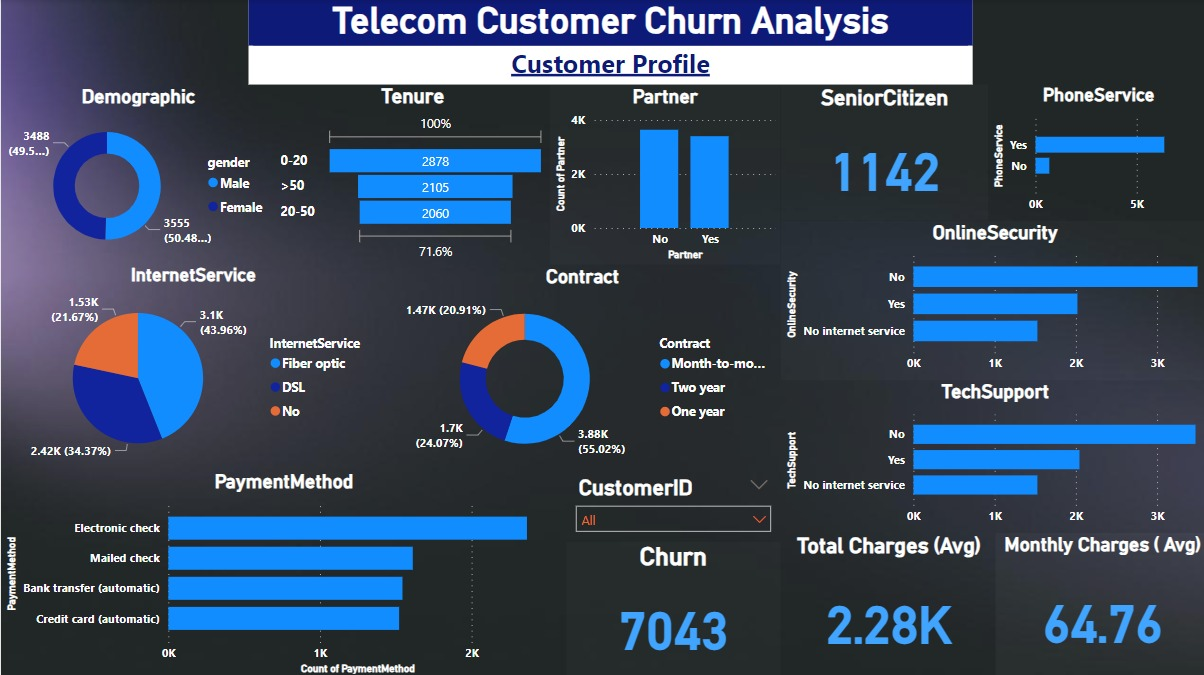

The page's visual inventory and layout, read from the dashboard file:
{"tool":"powerbi","page":{"name":"Customer","canvas":[1280,720],"ordinal":0},"visuals":[{"type":"donutChart","title":"Demographic","fields":{"Category":["Telco-Customer-Churn.gender"],"Y":["CountNonNull(Telco-Customer-Churn.gender)"]},"box":[0,90.6,290.9,190.7],"z":0},{"type":"funnel","title":"Tenure","fields":{"Category":["Telco-Customer-Churn.Tenure_Bins"],"Y":["CountNonNull(Telco-Customer-Churn.Tenure_Bins)"]},"box":[290.9,90.6,290.9,190.7],"z":1000},{"type":"clusteredColumnChart","title":"Partner","fields":{"Category":["Telco-Customer-Churn.Partner"],"Y":["CountNonNull(Telco-Customer-Churn.Partner)"]},"box":[581.8,90.6,244.3,190.7],"z":2000},{"type":"card","title":"SeniorCitizen","fields":{"Values":["Sum(Telco-Customer-Churn.SeniorCitizen)"]},"box":[826.1,90.6,219.6,144.1],"z":3000},{"type":"clusteredBarChart","title":"PhoneService","fields":{"Category":["Telco-Customer-Churn.PhoneService"],"Y":["CountNonNull(Telco-Customer-Churn.PhoneService)"]},"box":[1045.6,90.6,234.6,144.1],"z":4000},{"type":"clusteredBarChart","title":"OnlineSecurity","fields":{"Category":["Telco-Customer-Churn.OnlineSecurity"],"Y":["CountNonNull(Telco-Customer-Churn.OnlineSecurity)"]},"box":[826.1,234.6,454.2,168.8],"z":5000},{"type":"clusteredBarChart","title":"TechSupport","fields":{"Category":["Telco-Customer-Churn.TechSupport"],"Y":["CountNonNull(Telco-Customer-Churn.TechSupport)"]},"box":[826.1,403.4,454.2,161.9],"z":6000},{"type":"pieChart","title":"InternetService","fields":{"Category":["Telco-Customer-Churn.InternetService"],"Y":["CountNonNull(Telco-Customer-Churn.InternetService)"]},"box":[0,281.3,407.5,218.2],"z":7000},{"type":"donutChart","title":"Contract","fields":{"Category":["Telco-Customer-Churn.Contract"],"Y":["CountNonNull(Telco-Customer-Churn.Contract)"]},"box":[407.5,281.3,418.5,218.2],"z":8000},{"type":"barChart","title":"PaymentMethod","fields":{"Category":["Telco-Customer-Churn.PaymentMethod"],"Y":["CountNonNull(Telco-Customer-Churn.PaymentMethod)"]},"box":[0,499.5,599.7,220.9],"z":9000},{"type":"card","title":"Monthly Charges ( Avg)","fields":{"Values":["Avg(Telco-Customer-Churn.MonthlyCharges)"]},"box":[1053.9,565.4,226.4,155.1],"z":10000},{"type":"card","title":"Total Charges (Avg)","fields":{"Values":["Avg(Telco-Customer-Churn.TotalCharges)"]},"box":[826.1,565.4,227.8,155.1],"z":11000},{"type":"slicer","fields":{"Values":["Telco-Customer-Churn.customerID"]},"box":[599.7,499.5,226.4,75.5],"z":12000},{"type":"card","title":"Churn","fields":{"Values":["CountNonNull(Telco-Customer-Churn.Churn)"]},"box":[599.7,575,226.4,144.1],"z":13000},{"type":"textbox","title":"Telecom Customer Churn Analysis","box":[262.1,0,767.1,90.6],"z":14000}]}

Visuals, with their boxes in screenshot pixels (x1, y1, x2, y2), scaled from the page's 1280x720 canvas onto the 1204x675 screenshot:
"Demographic" donutChart: locate(0, 85, 274, 264)
"Tenure" funnel: locate(274, 85, 547, 264)
"Partner" clusteredColumnChart: locate(547, 85, 777, 264)
"SeniorCitizen" card: locate(777, 85, 984, 220)
"PhoneService" clusteredBarChart: locate(984, 85, 1203, 220)
"OnlineSecurity" clusteredBarChart: locate(777, 220, 1203, 378)
"TechSupport" clusteredBarChart: locate(777, 378, 1203, 530)
"InternetService" pieChart: locate(0, 264, 383, 468)
"Contract" donutChart: locate(383, 264, 777, 468)
"PaymentMethod" barChart: locate(0, 468, 564, 674)
"Monthly Charges ( Avg)" card: locate(991, 530, 1203, 674)
"Total Charges (Avg)" card: locate(777, 530, 991, 674)
slicer - Telco-Customer-Churn.customerID: locate(564, 468, 777, 539)
"Churn" card: locate(564, 539, 777, 674)
"Telecom Customer Churn Analysis" textbox: locate(247, 0, 968, 85)
